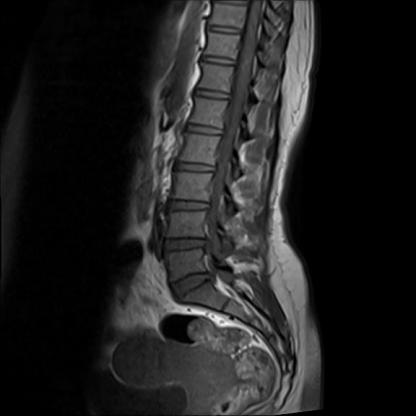Degenerative Disc Diseaserotation: (166, 235, 210, 255)
Disc Herniationrotation: (166, 235, 210, 255)
